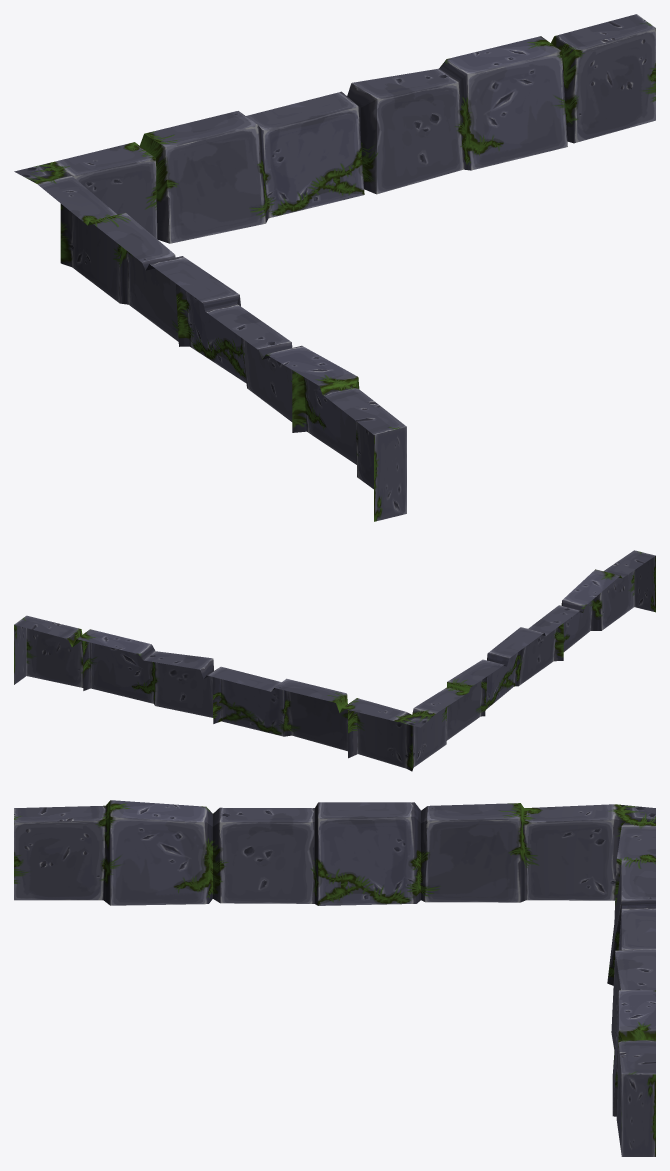
The model's file is MOD_WallTrim_01_M_corner_1.fbx.
3 renders of one model, top to bottom at view 1: azimuth 30°, elevation 25°; view 2: azimuth 150°, elevation 25°; view 3: azimuth 270°, elevation 25°, orthographic. The views are drawn at different scales.
Parts seen in each view (by area): view 1: MOD_WallTrim_01_M_corner_1; view 2: MOD_WallTrim_01_M_corner_1; view 3: MOD_WallTrim_01_M_corner_1.
Boxes of the visible parts, <box> form: MOD_WallTrim_01_M_corner_1: <box>14,14,655,521</box>; MOD_WallTrim_01_M_corner_1: <box>14,550,655,771</box>; MOD_WallTrim_01_M_corner_1: <box>14,800,655,1156</box>.
Size of what is drawn, in the model's own units: 375 by 55.17 by 375.
